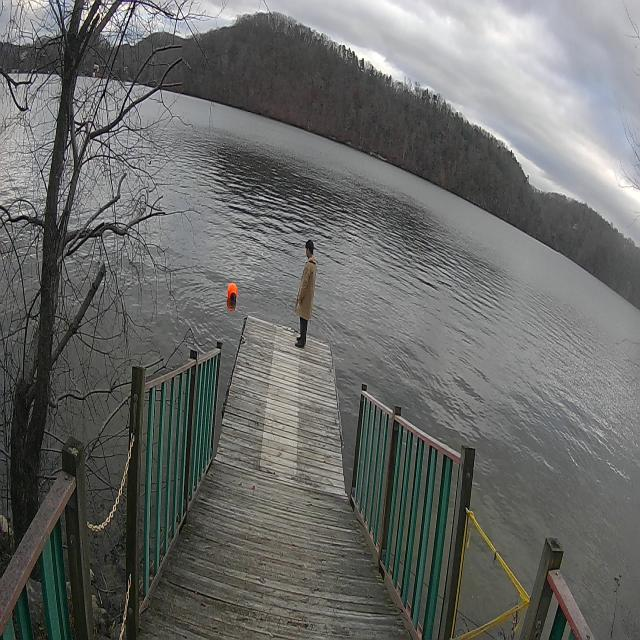Buoy: (223, 274, 242, 313)
